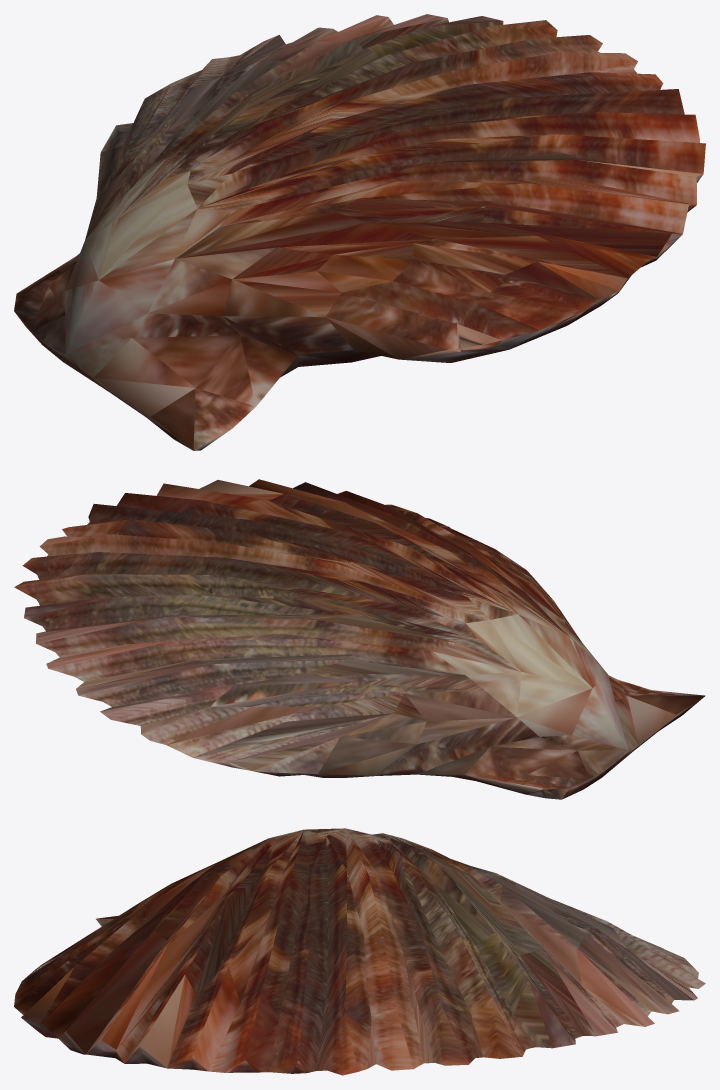
Rendered from 14_ING_seashell.glb.
3 renders of one model, top to bottom at view 1: azimuth 30°, elevation 25°; view 2: azimuth 150°, elevation 25°; view 3: azimuth 270°, elevation 25°, orthographic. The views are drawn at different scales.
Visible parts, largest first — view 1: 14_ING_seashell; view 2: 14_ING_seashell; view 3: 14_ING_seashell.
Part boxes in pixels (bbox=[...]): 14_ING_seashell: bbox=[14, 14, 705, 450]; 14_ING_seashell: bbox=[14, 479, 705, 799]; 14_ING_seashell: bbox=[14, 828, 705, 1075].
Size of the model in its own units: 0.0872 by 0.0253 by 0.0845.
1 material, 1 textured.
